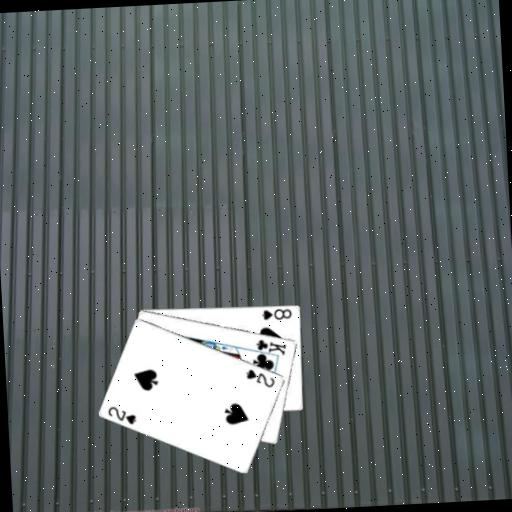2S: (243, 365, 277, 390), (105, 402, 138, 427)
8S: (259, 305, 294, 322)
KC: (249, 335, 289, 360)
